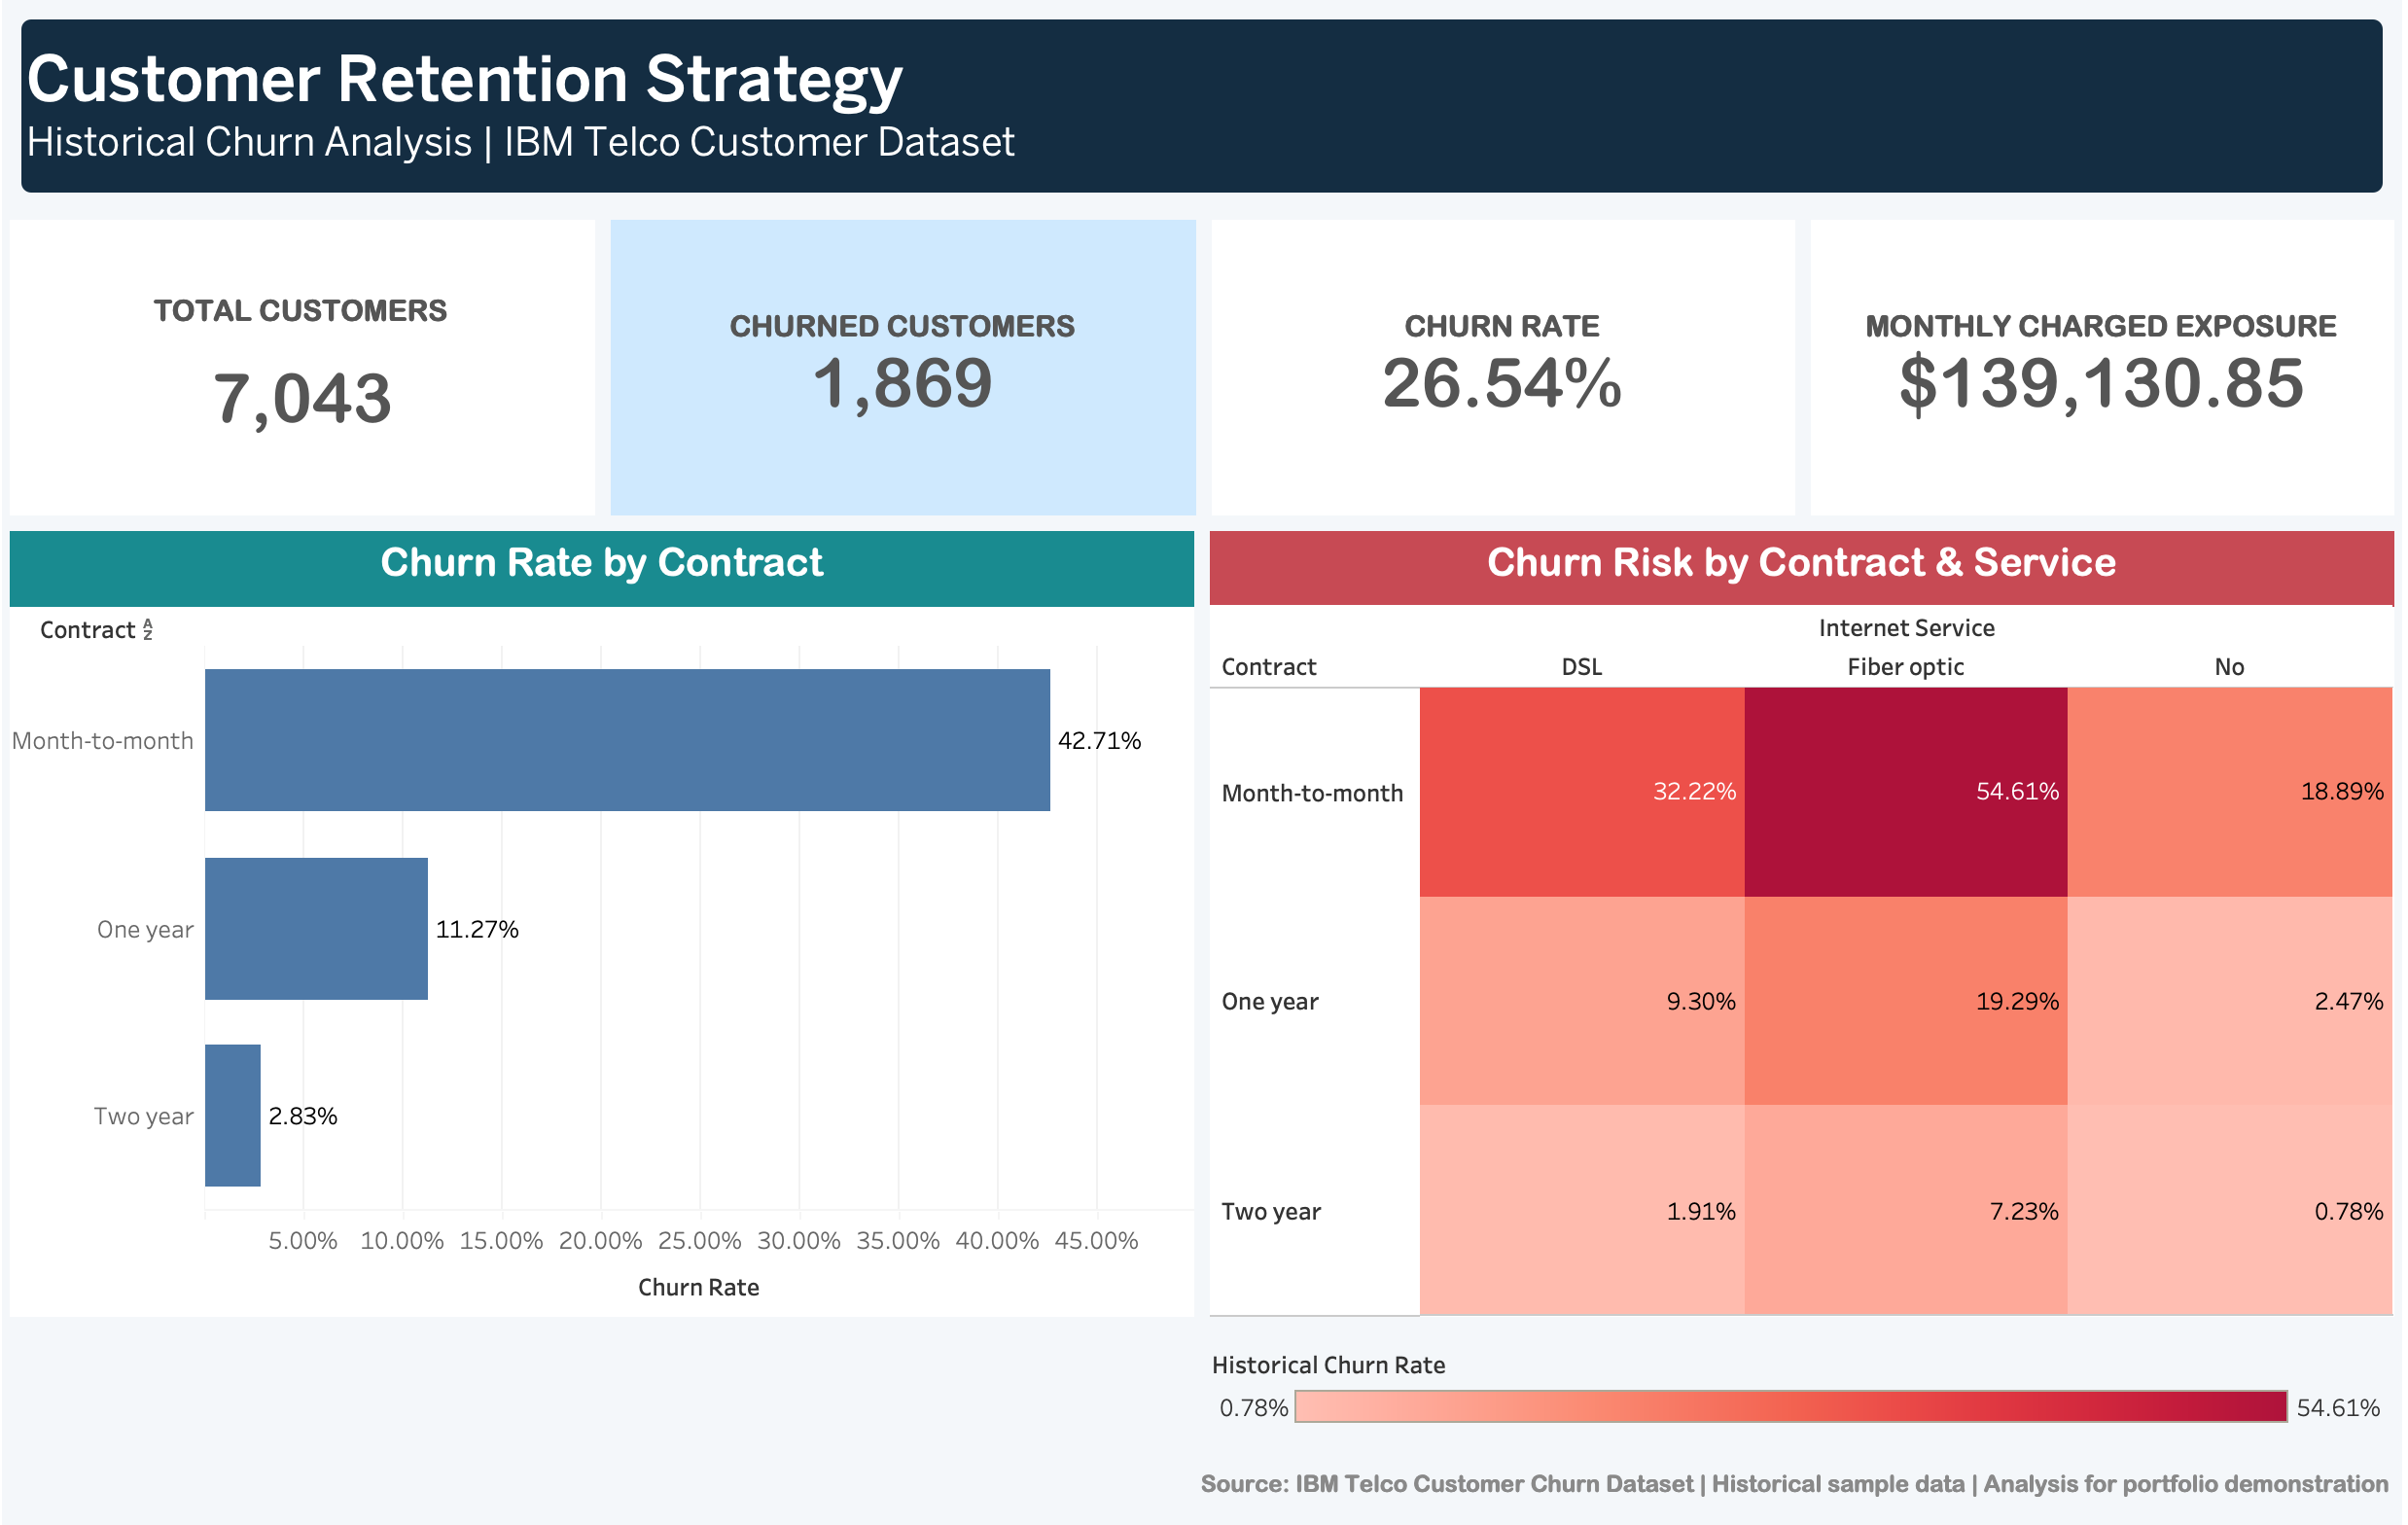

Layout of this report page (visuals, bound fields, positions):
{"tool":"tableau","page":{"name":"Customer Retention","canvas":[1250,800],"ordinal":0},"visuals":[{"type":"text","box":[8,8,1234,109]},{"type":"worksheet","title":" KPI - Total Customers","mark":"Automatic","box":[8,117,309,160]},{"type":"worksheet","title":"KPI - Churned Customers","mark":"Automatic","box":[317,117,309,160]},{"type":"worksheet","title":"KPI - Churn Rate","mark":"Automatic","box":[626,117,308,160]},{"type":"worksheet","title":"KPI - Monthly Charge Exposure","mark":"Automatic","box":[934,117,308,160]},{"type":"worksheet","title":"Churn Rate by Contract","mark":"Bar","rows":["contract"],"cols":["Calculation_4832553962455041"],"box":[8,277,617,412]},{"type":"worksheet","title":"Churn Risk by Contract & Service","mark":"Square","rows":["contract"],"cols":["internet_service"],"box":[625,277,617,412]},{"type":"legend","title":"Churn Risk by Contract & Service","param":"[federated.0mbttuk0sben4b17zeltr0x95802].[usr:Calculation_4832553962455041:qk]","box":[630,701,606,76]},{"type":"text","box":[8,749,1234,43]}]}

Visuals, with their boxes in screenshot pixels (x1, y1, x2, y2), scaled from the page's 1250x800 canvas onto the 2408x1525 screenshot:
text: select_region(16, 16, 2392, 223)
" KPI - Total Customers" worksheet: select_region(16, 223, 611, 528)
"KPI - Churned Customers" worksheet: select_region(611, 223, 1206, 528)
"KPI - Churn Rate" worksheet: select_region(1206, 223, 1799, 528)
"KPI - Monthly Charge Exposure" worksheet: select_region(1799, 223, 2392, 528)
"Churn Rate by Contract" worksheet (Bar marks): select_region(16, 528, 1204, 1313)
"Churn Risk by Contract & Service" worksheet (Square marks): select_region(1204, 528, 2392, 1313)
"Churn Risk by Contract & Service" legend: select_region(1214, 1336, 2381, 1481)
text: select_region(16, 1428, 2392, 1509)
